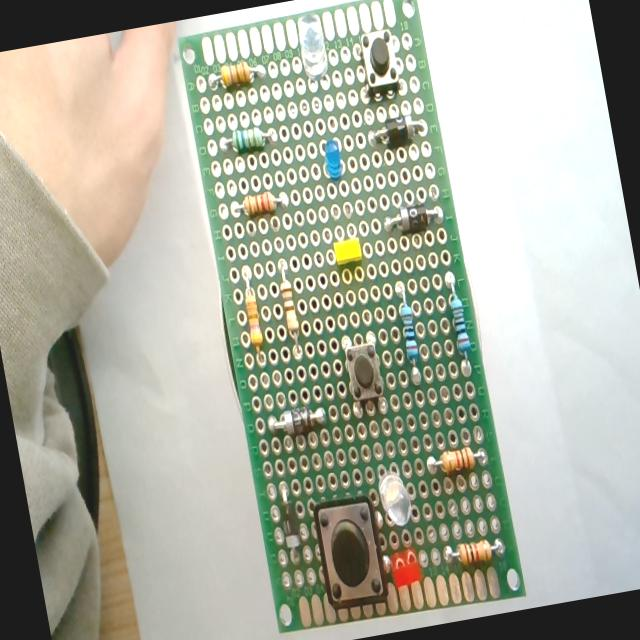diode: (367, 112, 426, 150), (383, 200, 442, 237), (267, 403, 327, 439), (274, 480, 302, 546)
led: (294, 10, 332, 81), (374, 467, 416, 529), (388, 543, 430, 600), (316, 135, 349, 197), (332, 235, 364, 266)
resistor: (442, 270, 473, 358), (235, 183, 292, 223), (394, 282, 421, 364), (238, 266, 264, 348), (274, 257, 300, 338), (445, 534, 506, 568), (207, 58, 266, 92), (427, 442, 483, 476), (220, 125, 278, 156)
switch: (309, 492, 390, 613), (356, 28, 402, 98), (342, 340, 385, 404)
